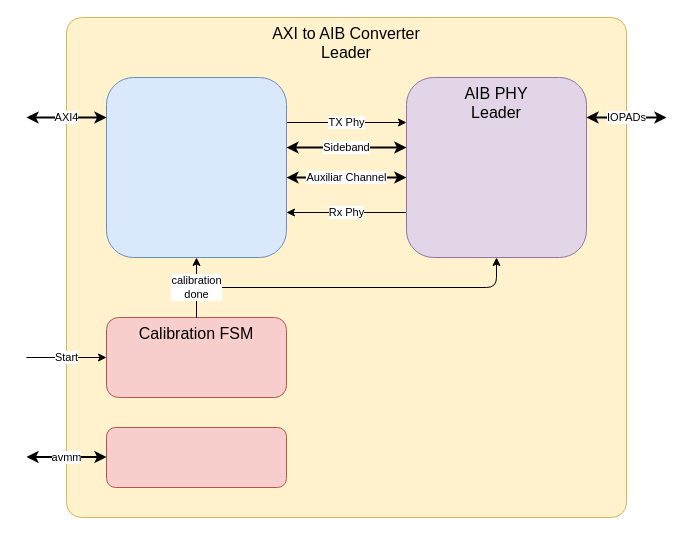
Image size: 693x535. Some labels were removed from this diagram. The shapes that lost their labels are listed below. From the top down, each one's centre as x and y in pixels, then its label:
At [196,167]: "AXI-MM Leader".
At [196,457]: "Avalon MM interface".
